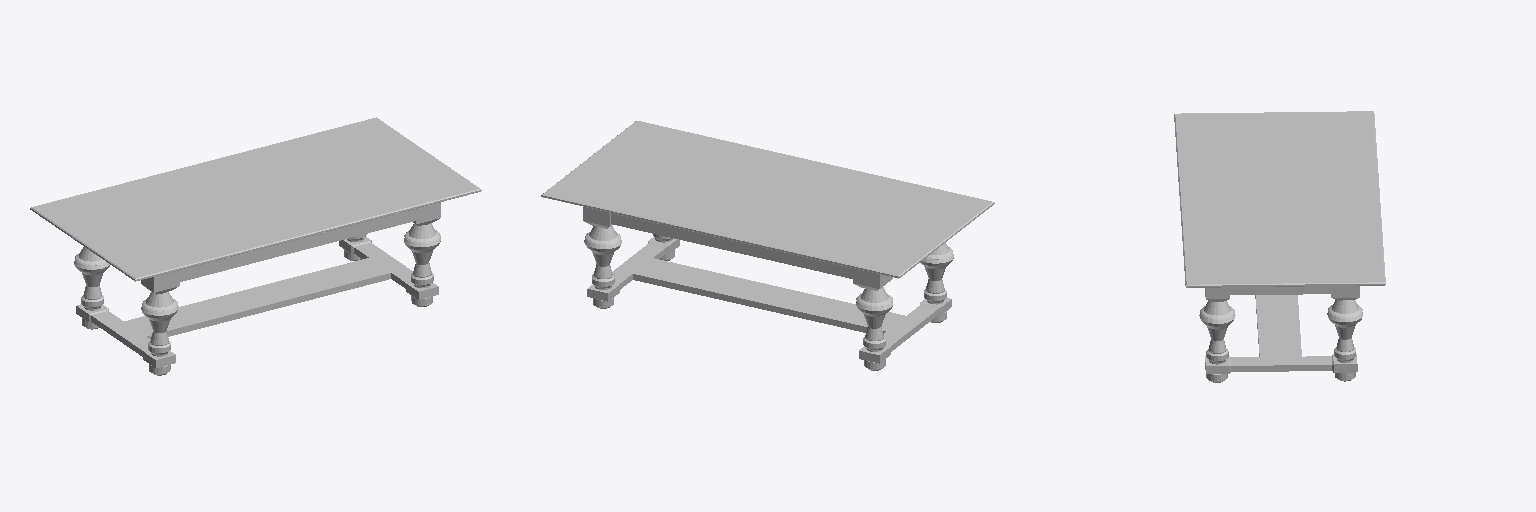
Rendered from tableBettina.obj.
The picture shows the model from 3 angles: view 1: azimuth 30°, elevation 25°; view 2: azimuth 150°, elevation 25°; view 3: azimuth 270°, elevation 25°; orthographic projection.
Parts seen in each view (by area): view 1: table group1 table_chairs indoor; view 2: table group1 table_chairs indoor; view 3: table group1 table_chairs indoor.
Boxes of the visible parts, <box> form: table group1 table_chairs indoor: <box>30,117,481,375</box>; table group1 table_chairs indoor: <box>541,121,994,370</box>; table group1 table_chairs indoor: <box>1174,111,1385,382</box>.
Size of the model in its own units: 4.29 by 1.33 by 2.2.